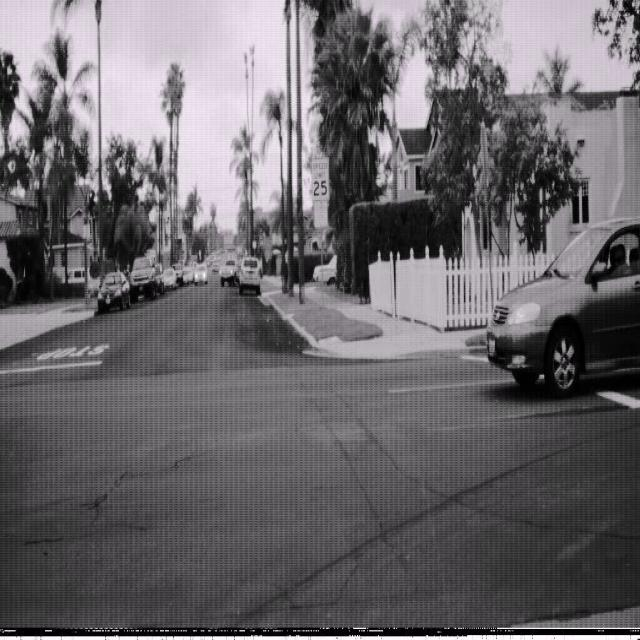speedLimit25: (310, 154, 330, 202)
